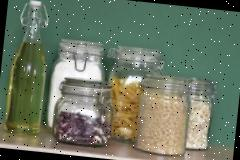glass: (3, 0, 223, 160)
